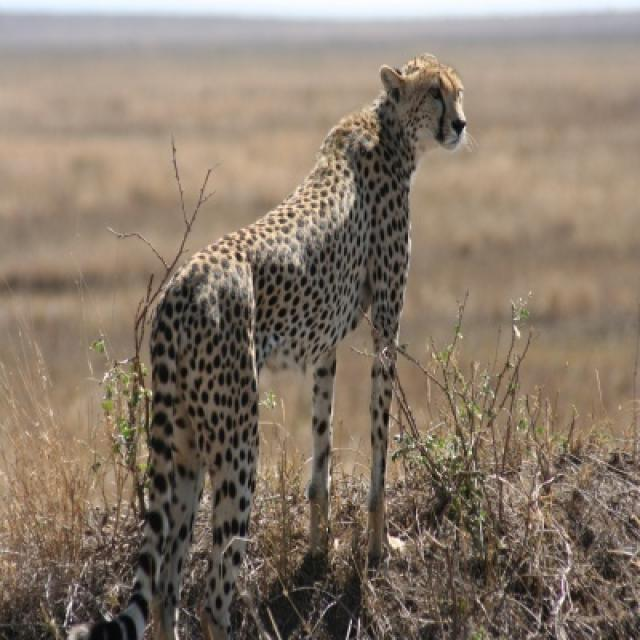Cheetah: (68, 63, 469, 637)
